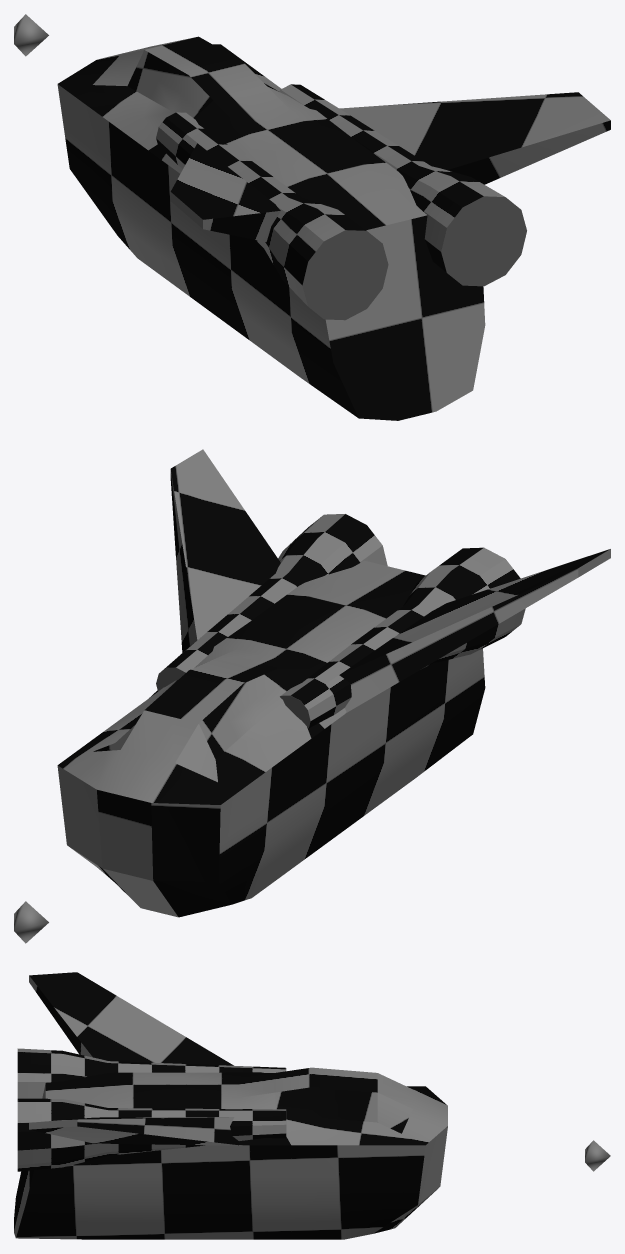
Rendered from adder_mk1_orig.gltf.
The picture shows the model from 3 angles, top to bottom: view 1: azimuth 30°, elevation 25°; view 2: azimuth 150°, elevation 25°; view 3: azimuth 270°, elevation 25°; orthographic projection. The views are drawn at different scales.
Parts seen in each view (by area): view 1: adder_mk1_orig; view 2: adder_mk1_orig; view 3: adder_mk1_orig.
Part boxes in pixels (x1,y1,x2,y2): adder_mk1_orig: (14,14,610,420); adder_mk1_orig: (14,449,610,943); adder_mk1_orig: (14,972,610,1239).
Bounding box in the file's own units: 2.5 × 1.44 × 4.28.
Materials: 1 (1 with a texture image).
